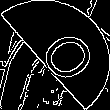O_SW: (18, 22, 92, 88)
